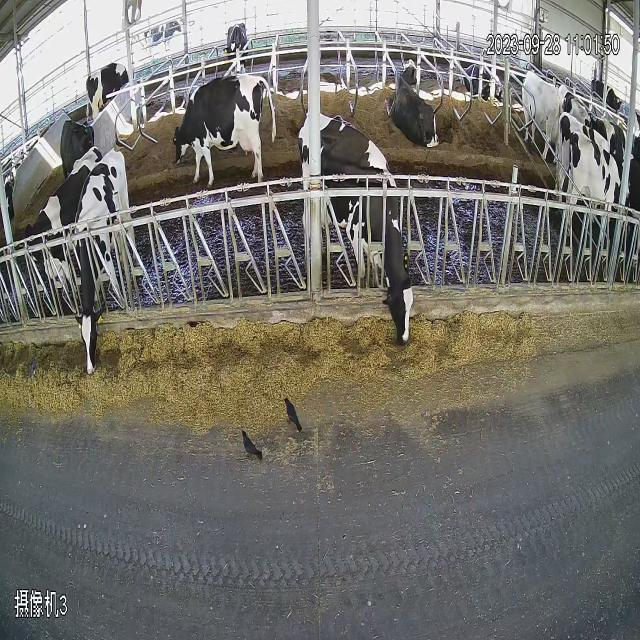drinking: (82, 58, 146, 114)
feeding: (390, 42, 450, 170), (462, 22, 498, 127)
lying down: (522, 30, 564, 143), (582, 70, 636, 121)
standing: (300, 96, 421, 376), (168, 50, 276, 195), (558, 108, 633, 239), (136, 10, 188, 60), (221, 12, 258, 74)
